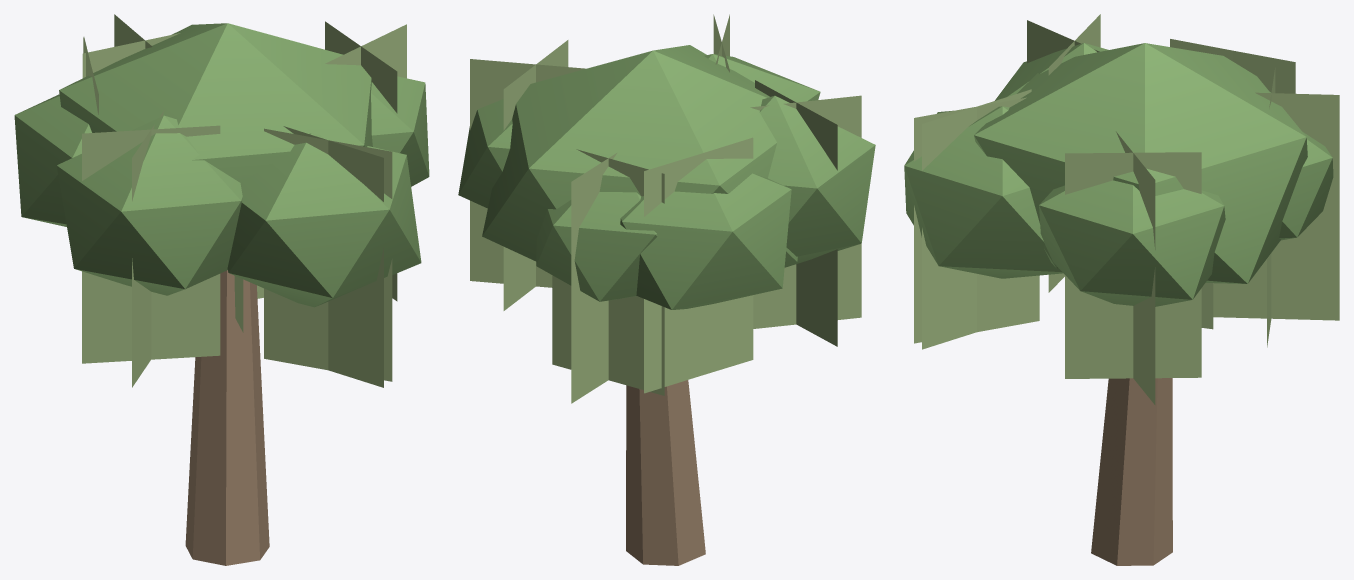
File: tree_willow_2.glb
3 renders of one model, left to right at view 1: azimuth 30°, elevation 25°; view 2: azimuth 150°, elevation 25°; view 3: azimuth 270°, elevation 25°, orthographic. The views are drawn at different scales.
Parts seen in each view (by area): view 1: copa, hebras, tronco; view 2: copa, hebras, tronco; view 3: copa, hebras, tronco.
Part boxes in pixels (x1,y1,x2,y2): copa: (14,23,429,307); hebras: (82,14,406,387); tronco: (185,270,269,565); copa: (458,45,875,309); hebras: (470,14,861,403); tronco: (626,380,705,565); copa: (904,43,1333,306); hebras: (914,14,1339,404); tronco: (1091,378,1172,565).
Size of the model in its own units: 1.71 by 2.27 by 1.75.
